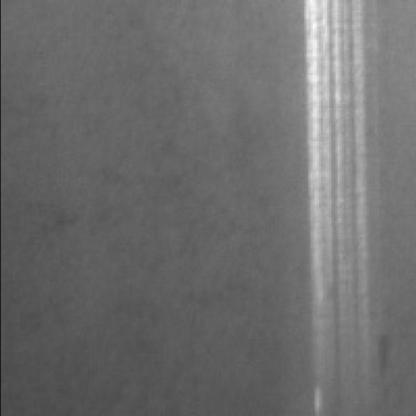scratches: (306, 4, 366, 374)
